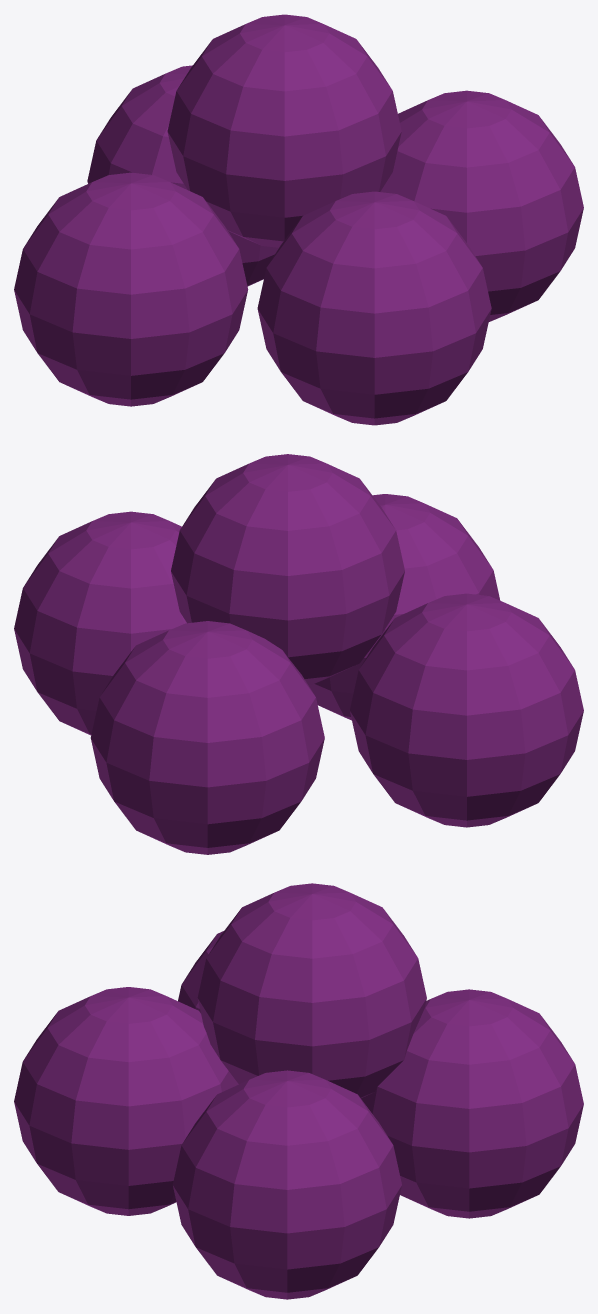
The model's file is Berry.fbx.
The picture shows the model from 3 angles, top to bottom: view 1: azimuth 30°, elevation 25°; view 2: azimuth 150°, elevation 25°; view 3: azimuth 270°, elevation 25°; orthographic projection. The views are drawn at different scales.
Parts seen in each view (by area): view 1: Sphere; view 2: Sphere; view 3: Sphere.
Boxes of the visible parts, left/top/right/bottom form: Sphere: left=14, top=14, right=583, bottom=425; Sphere: left=14, top=454, right=583, bottom=854; Sphere: left=14, top=883, right=583, bottom=1299.
Size of the model in its own units: 84.72 by 48.18 by 79.28.
